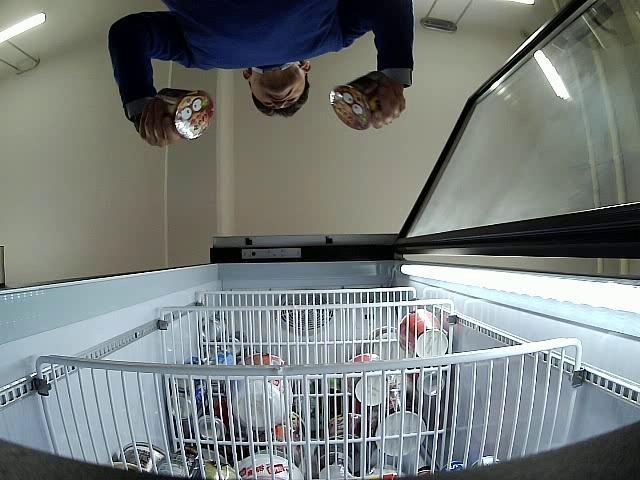06_nuguri_S: (330, 70, 402, 130), (157, 88, 215, 140)
